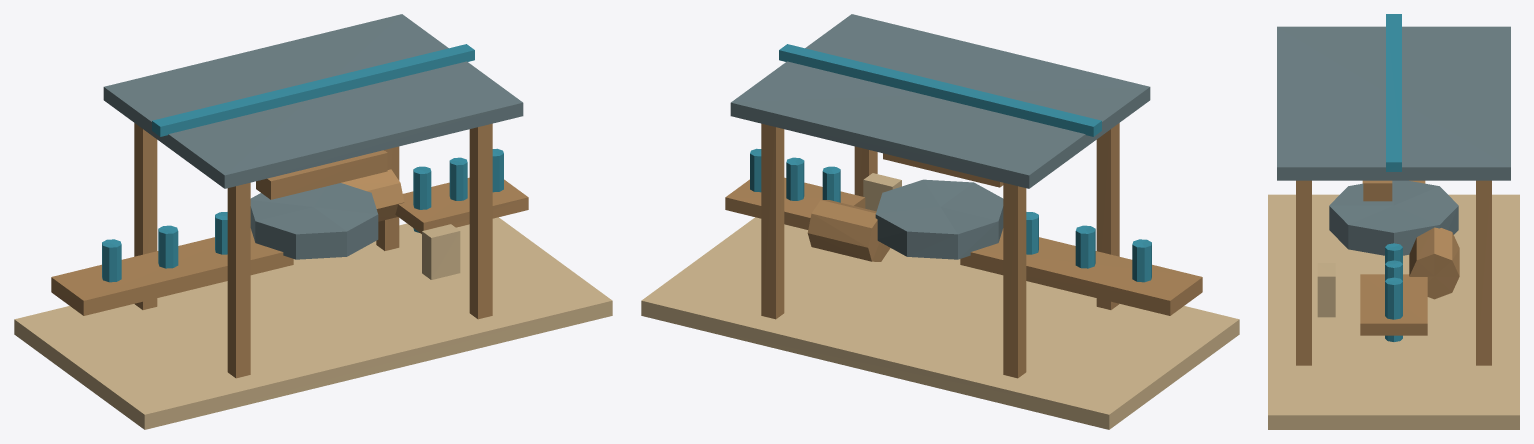
The model's file is lumber-mill.source.glb.
3 renders of one model, left to right at view 1: azimuth 30°, elevation 25°; view 2: azimuth 150°, elevation 25°; view 3: azimuth 270°, elevation 25°, orthographic. The views are drawn at different scales.
Parts seen in each view (by area): view 1: lumber-mill-concrete-strip-mesh, lumber-mill-roof-mesh, lumber-mill-raised-feed-table-mesh, lumber-mill-circular-saw-housing-mesh, lumber-mill-roof-ridge-mesh, lumber-mill-timber-frame-post-3-mesh, lumber-mill-timber-frame-post-2-mesh, lumber-mill-outfeed-roller-bed-mesh, lumber-mill-timber-frame-post-0-mesh, lumber-mill-saw-guard-mesh, lumber-mill-control-panel-mesh, lumber-mill-sawmill-motor-mesh (+5 smaller); view 2: lumber-mill-concrete-strip-mesh, lumber-mill-roof-mesh, lumber-mill-circular-saw-housing-mesh, lumber-mill-raised-feed-table-mesh, lumber-mill-roof-ridge-mesh, lumber-mill-timber-frame-post-1-mesh, lumber-mill-timber-frame-post-0-mesh, lumber-mill-sawmill-motor-mesh, lumber-mill-timber-frame-post-2-mesh, lumber-mill-outfeed-roller-bed-mesh, lumber-mill-feed-roller--1.8-mesh, lumber-mill-control-panel-mesh (+5 smaller); view 3: lumber-mill-concrete-strip-mesh, lumber-mill-roof-mesh, lumber-mill-circular-saw-housing-mesh, lumber-mill-outfeed-roller-bed-mesh, lumber-mill-timber-frame-post-1-mesh, lumber-mill-timber-frame-post-3-mesh, lumber-mill-sawmill-motor-mesh, lumber-mill-roof-ridge-mesh, lumber-mill-control-panel-mesh, lumber-mill-outfeed-roller-2.25-mesh, lumber-mill-saw-guard-mesh, lumber-mill-outfeed-roller-1.35-mesh (+1 smaller).
Part boxes in pixels (left/top/right/bottom): lumber-mill-concrete-strip-mesh: left=14, top=217, right=612, bottom=429; lumber-mill-roof-mesh: left=103, top=14, right=523, bottom=188; lumber-mill-raised-feed-table-mesh: left=51, top=228, right=293, bottom=315; lumber-mill-circular-saw-housing-mesh: left=250, top=183, right=378, bottom=259; lumber-mill-roof-ridge-mesh: left=152, top=44, right=474, bottom=136; lumber-mill-timber-frame-post-3-mesh: left=469, top=123, right=492, bottom=319; lumber-mill-timber-frame-post-2-mesh: left=227, top=182, right=250, bottom=378; lumber-mill-outfeed-roller-bed-mesh: left=395, top=177, right=528, bottom=233; lumber-mill-timber-frame-post-0-mesh: left=134, top=123, right=157, bottom=309; lumber-mill-saw-guard-mesh: left=256, top=150, right=387, bottom=199; lumber-mill-control-panel-mesh: left=422, top=224, right=460, bottom=279; lumber-mill-sawmill-motor-mesh: left=341, top=169, right=404, bottom=221; lumber-mill-concrete-strip-mesh: left=641, top=217, right=1239, bottom=429; lumber-mill-roof-mesh: left=730, top=14, right=1150, bottom=188; lumber-mill-circular-saw-housing-mesh: left=875, top=179, right=1003, bottom=259; lumber-mill-raised-feed-table-mesh: left=960, top=228, right=1202, bottom=315; lumber-mill-roof-ridge-mesh: left=779, top=44, right=1101, bottom=136; lumber-mill-timber-frame-post-1-mesh: left=761, top=123, right=784, bottom=319; lumber-mill-timber-frame-post-0-mesh: left=1003, top=182, right=1026, bottom=378; lumber-mill-sawmill-motor-mesh: left=807, top=200, right=890, bottom=261; lumber-mill-timber-frame-post-2-mesh: left=1096, top=123, right=1119, bottom=309; lumber-mill-outfeed-roller-bed-mesh: left=725, top=177, right=865, bottom=229; lumber-mill-feed-roller--1.8-mesh: left=1075, top=225, right=1095, bottom=268; lumber-mill-control-panel-mesh: left=863, top=173, right=901, bottom=211; lumber-mill-concrete-strip-mesh: left=1268, top=194, right=1519, bottom=429; lumber-mill-roof-mesh: left=1277, top=26, right=1510, bottom=180; lumber-mill-circular-saw-housing-mesh: left=1329, top=180, right=1458, bottom=255; lumber-mill-outfeed-roller-bed-mesh: left=1360, top=274, right=1427, bottom=335; lumber-mill-timber-frame-post-1-mesh: left=1476, top=180, right=1491, bottom=365; lumber-mill-timber-frame-post-3-mesh: left=1296, top=180, right=1311, bottom=365; lumber-mill-sawmill-motor-mesh: left=1409, top=227, right=1459, bottom=299; lumber-mill-roof-ridge-mesh: left=1386, top=14, right=1401, bottom=171; lumber-mill-control-panel-mesh: left=1317, top=263, right=1335, bottom=317; lumber-mill-outfeed-roller-2.25-mesh: left=1385, top=277, right=1402, bottom=341; lumber-mill-saw-guard-mesh: left=1363, top=180, right=1392, bottom=201; lumber-mill-outfeed-roller-1.35-mesh: left=1385, top=243, right=1402, bottom=263.
Size of the model in its own units: 5.95 by 2.84 by 2.8.
